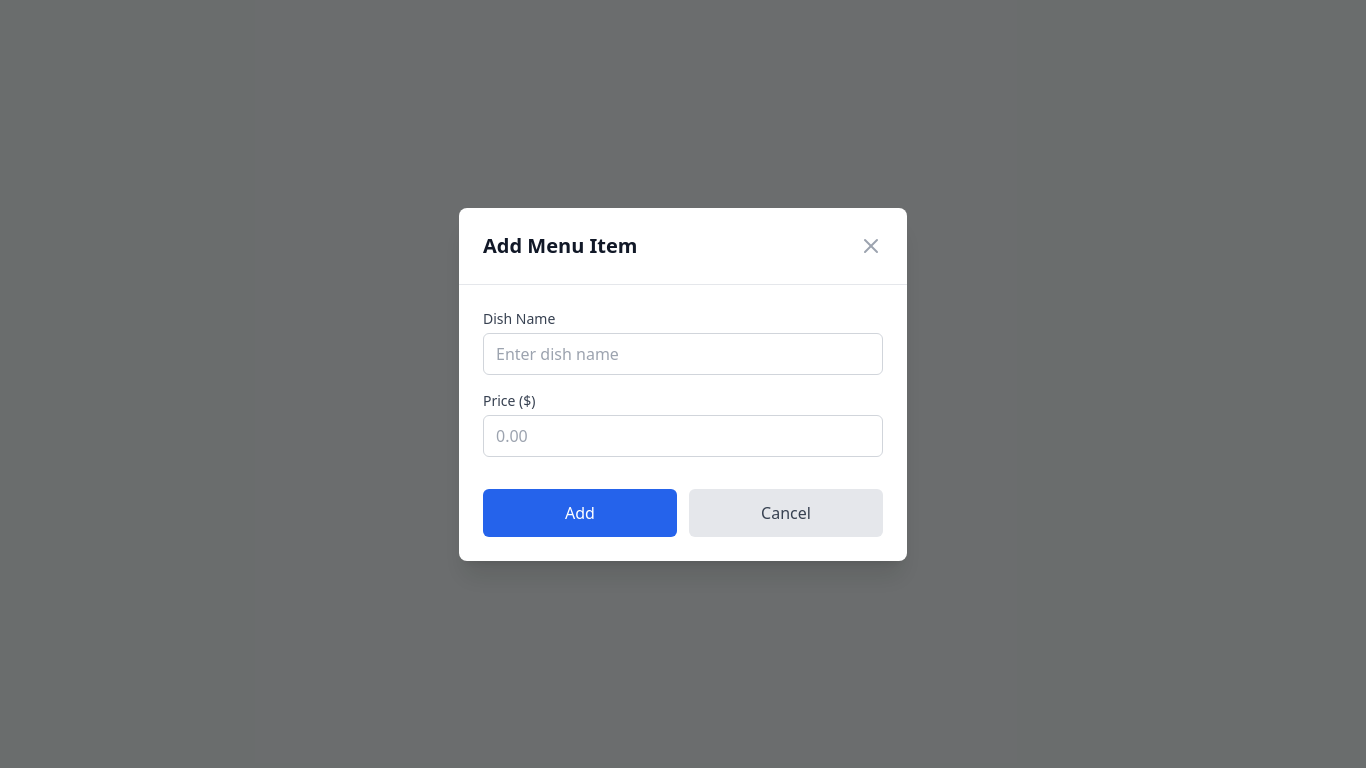
MenuItemForm › displays validation error for empty price
Type "Pasta" into the field labelled "Dish Name".
click(683, 354); type("Pasta")  # box [483,332,883,374]
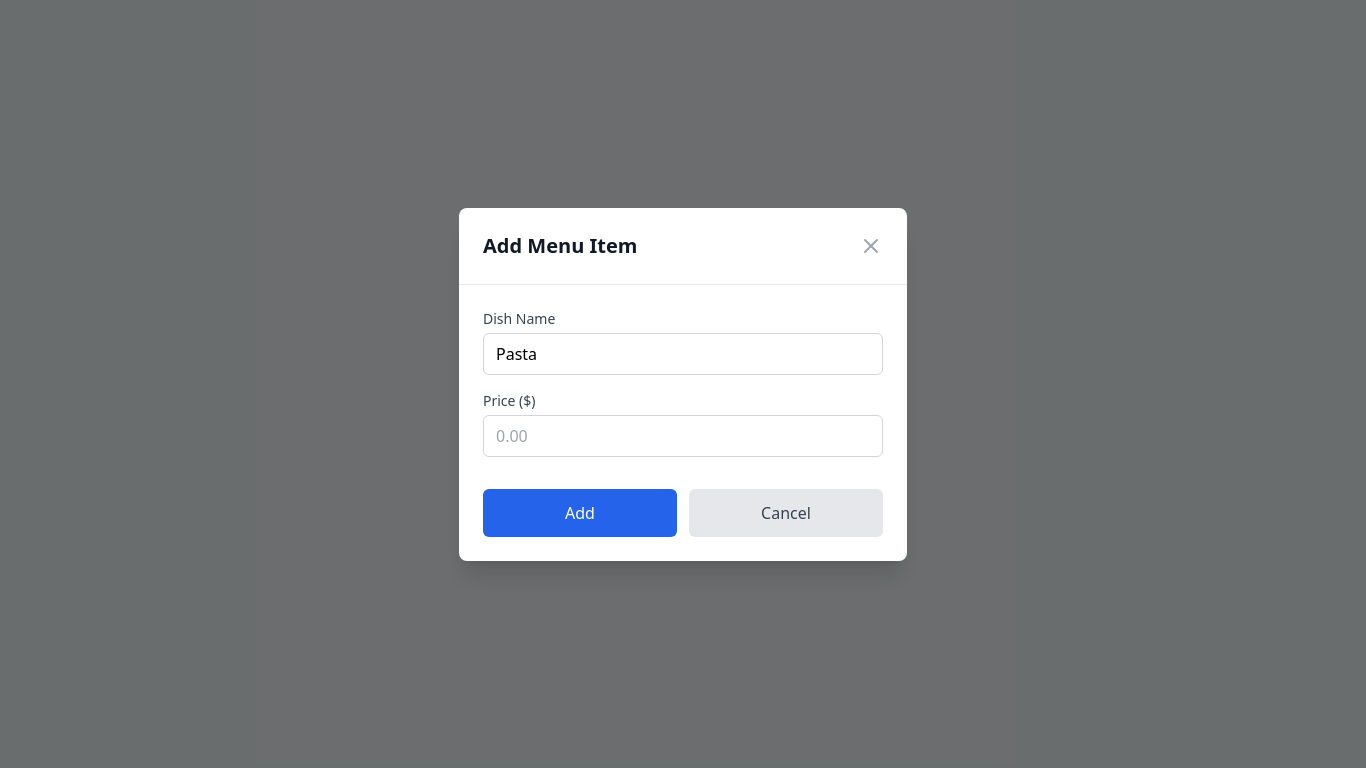
Click the button "Add".
click(580, 512)  # box [483,488,677,536]
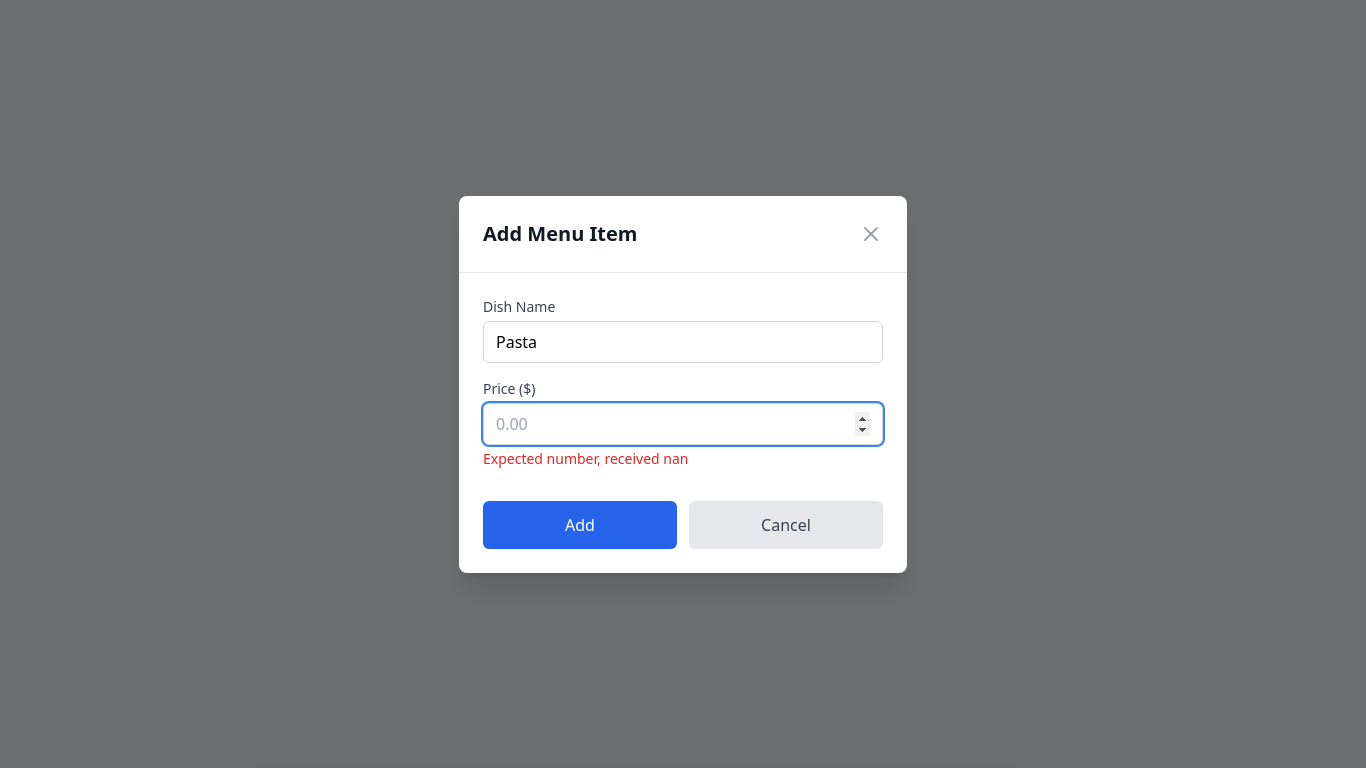
Result: the text "Expected number, received nan" is shown at [483,448,688,468]
